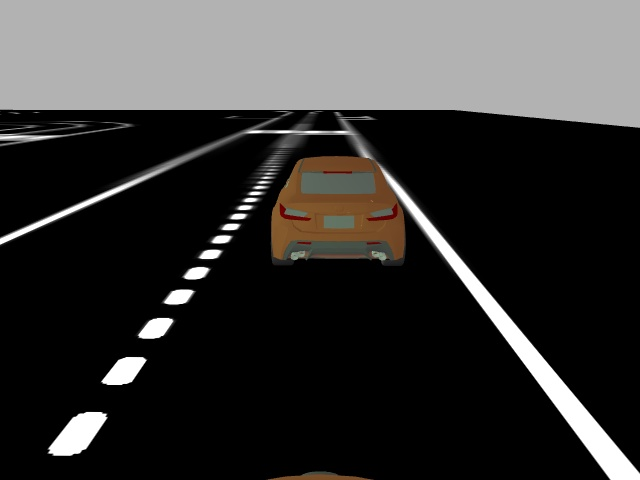obstacle_car: (269, 153, 408, 269)
